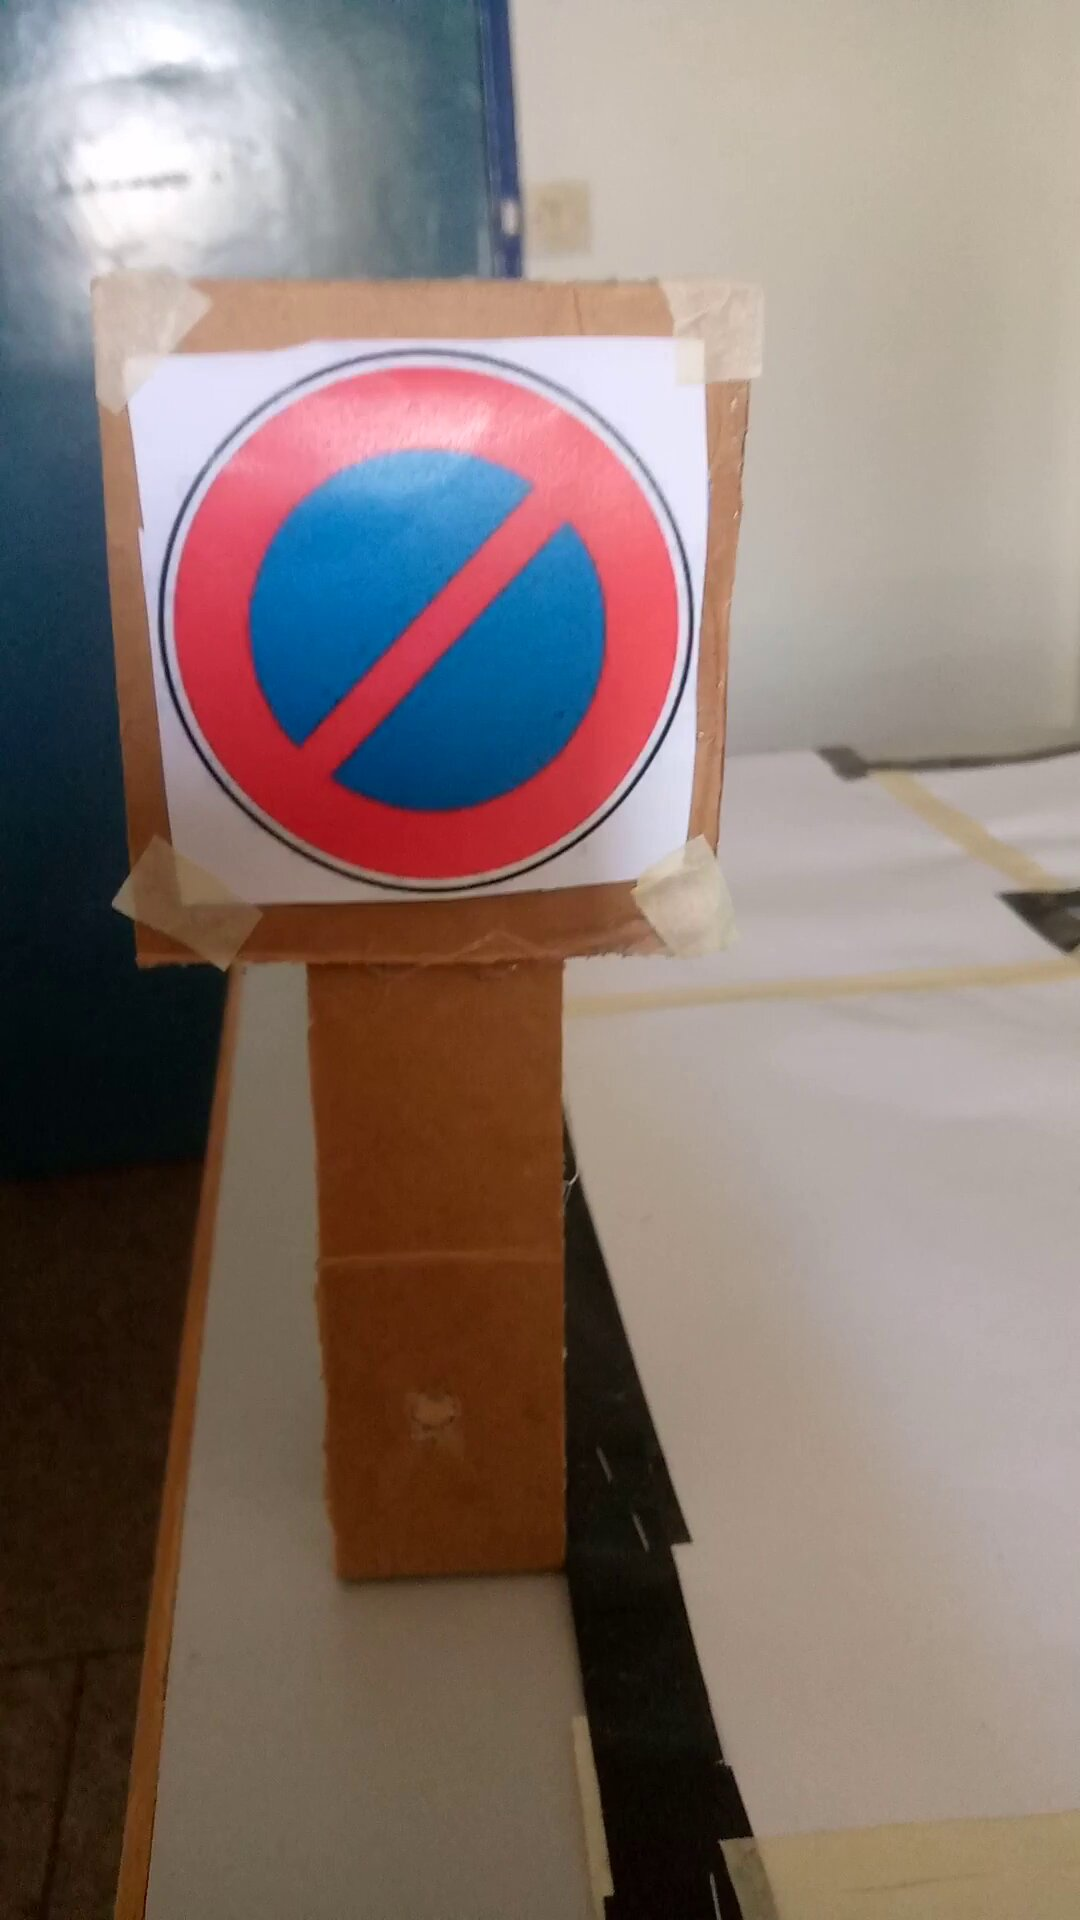panel110: (113, 340, 702, 891)
